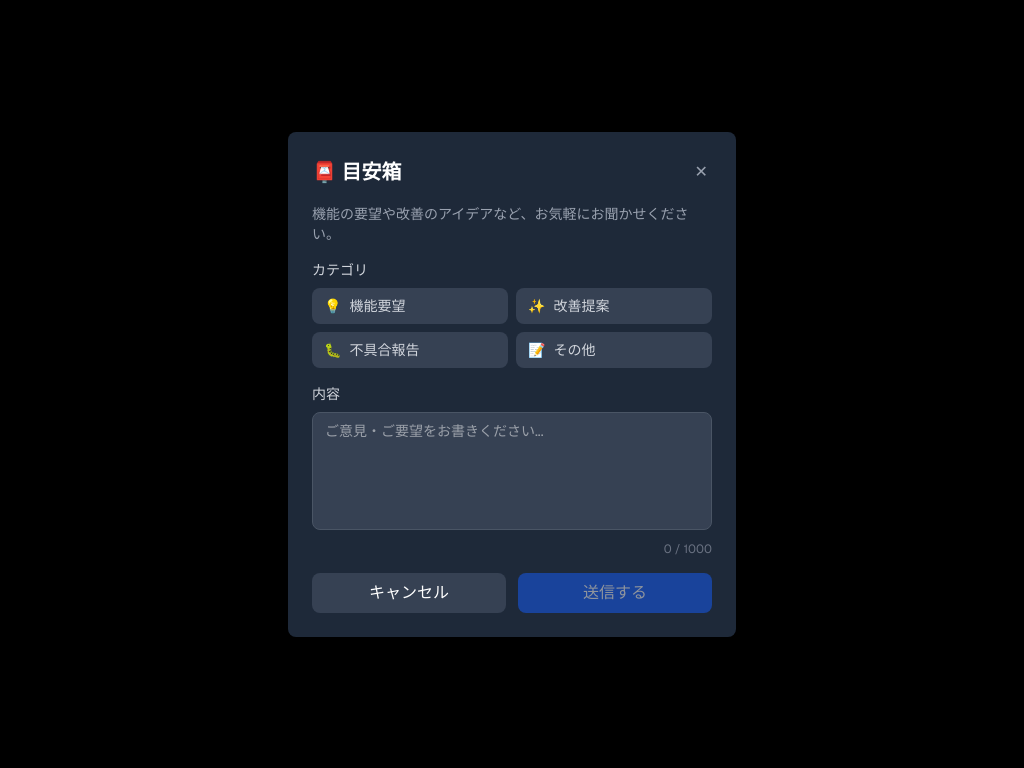
Scenario: FeedbackModal › 送信失敗時にエラーメッセージが表示される
Click the text "改善提案": (582, 306) x1=554 y1=296 x2=610 y2=316
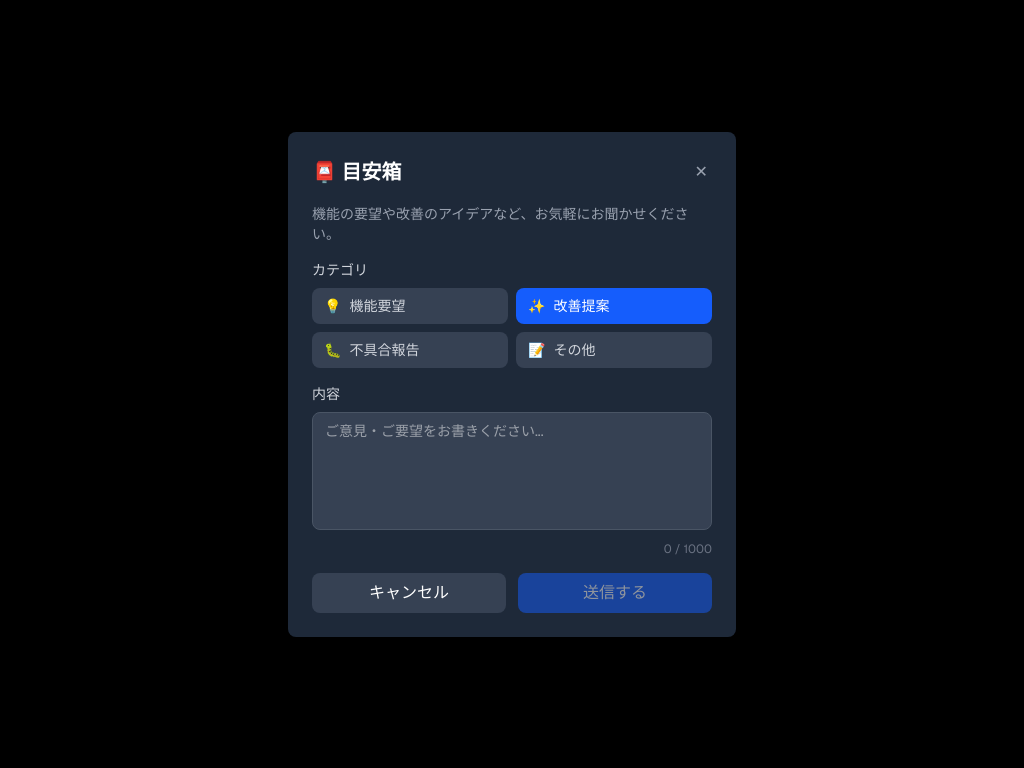
In the text box with placeholder "ご意見・ご要望をお書きください...": (512, 470) x1=312 y1=412 x2=712 y2=530, type "テスト内容"
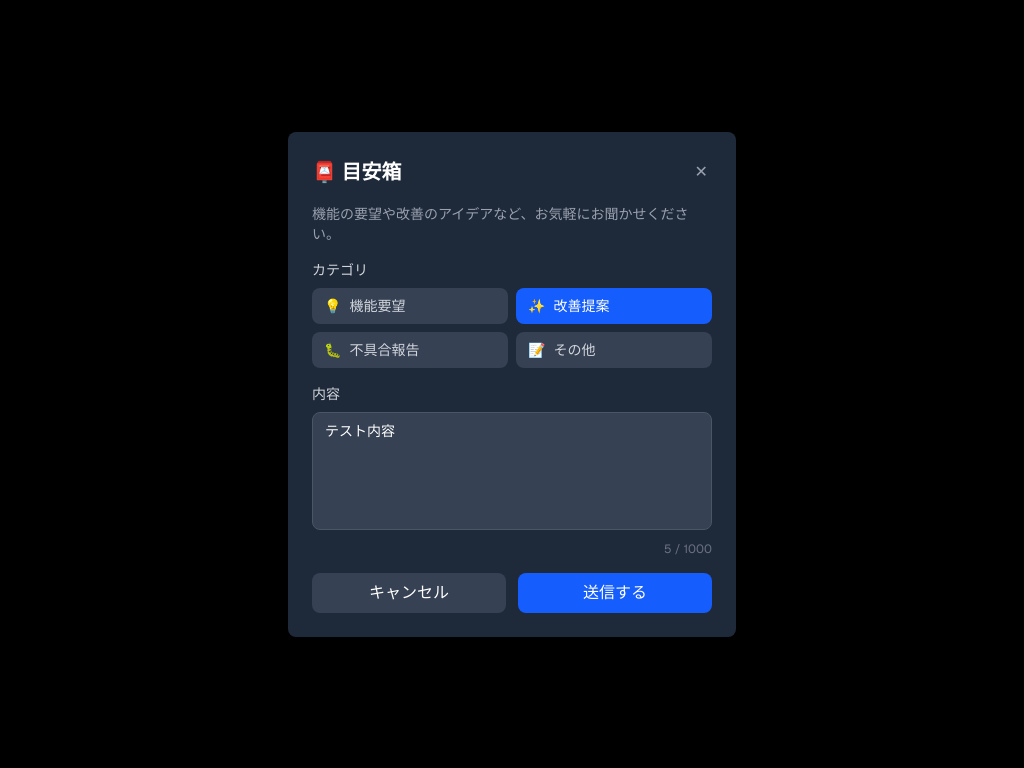
Click the button "送信する": (615, 592) x1=518 y1=572 x2=712 y2=612
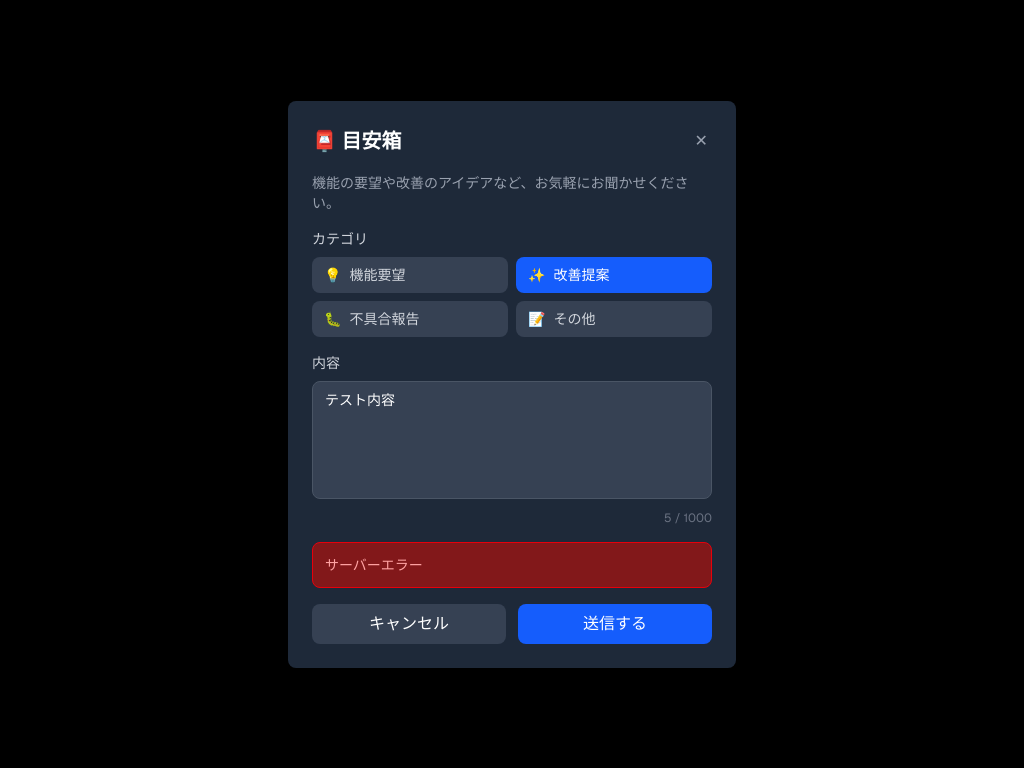
Result: the text "サーバーエラー" is shown at x1=325 y1=556 x2=423 y2=574
